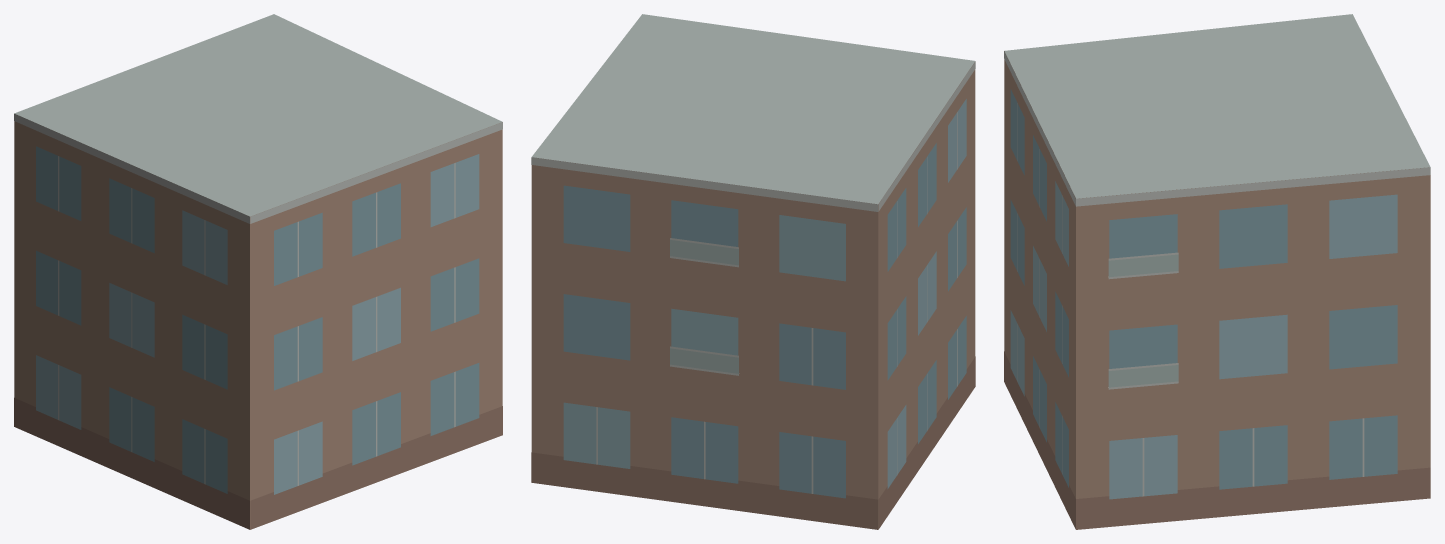
Rendered from survey-upis-32822110.glb.
3 renders of one model, left to right at view 1: azimuth 30°, elevation 25°; view 2: azimuth 150°, elevation 25°; view 3: azimuth 270°, elevation 25°, orthographic. The views are drawn at different scales.
Visible parts, largest first — view 1: survey-upis-32822110.tmp; view 2: survey-upis-32822110.tmp; view 3: survey-upis-32822110.tmp.
Part boxes in pixels (x1,y1,x2,y2): survey-upis-32822110.tmp: (14, 14, 502, 529); survey-upis-32822110.tmp: (531, 14, 975, 529); survey-upis-32822110.tmp: (1004, 14, 1430, 529).
Bounding box in the file's own units: 12.21 × 10.2 × 11.91.
